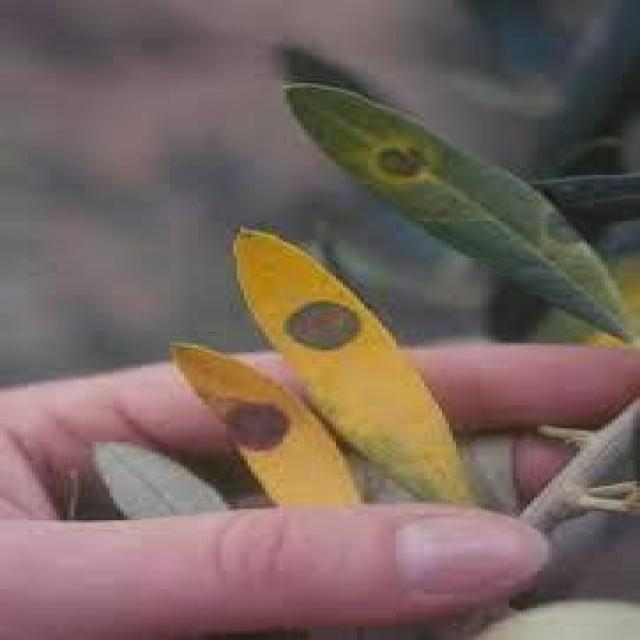Peacock Eye: (286, 83, 633, 345), (235, 225, 497, 511), (170, 343, 350, 502)
